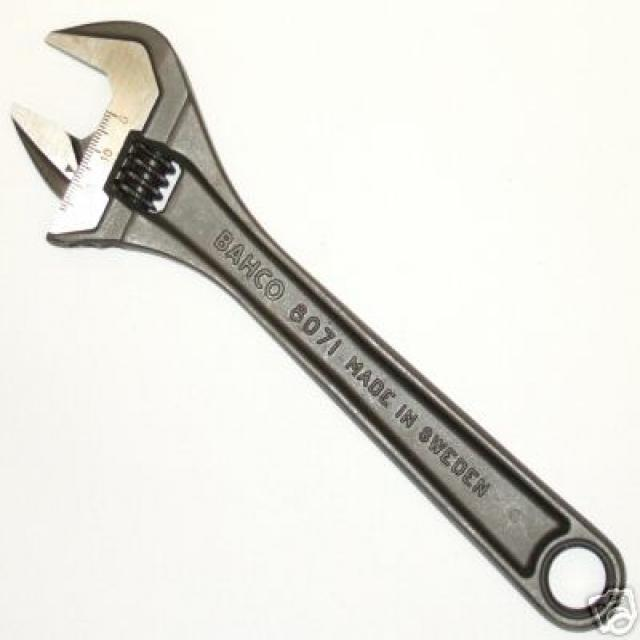wrench: (2, 14, 621, 605)
